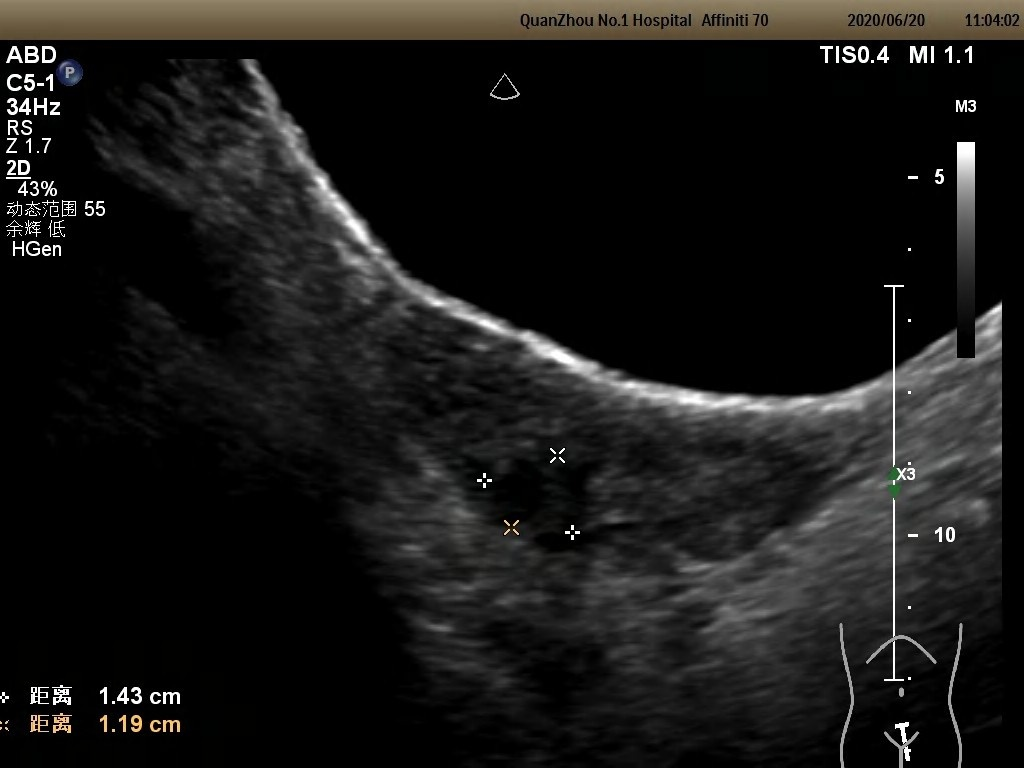肌瘤: (493, 456, 572, 526)
